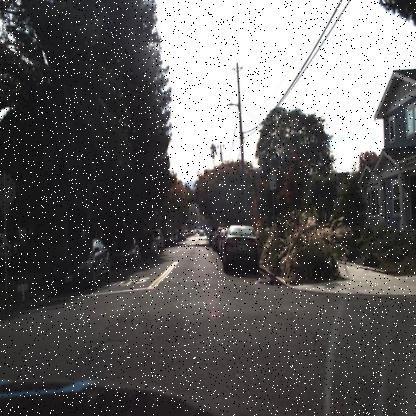car: (54, 238, 112, 287), (221, 224, 259, 273), (110, 235, 141, 265), (1, 231, 19, 273), (140, 232, 156, 256), (154, 228, 164, 252)
